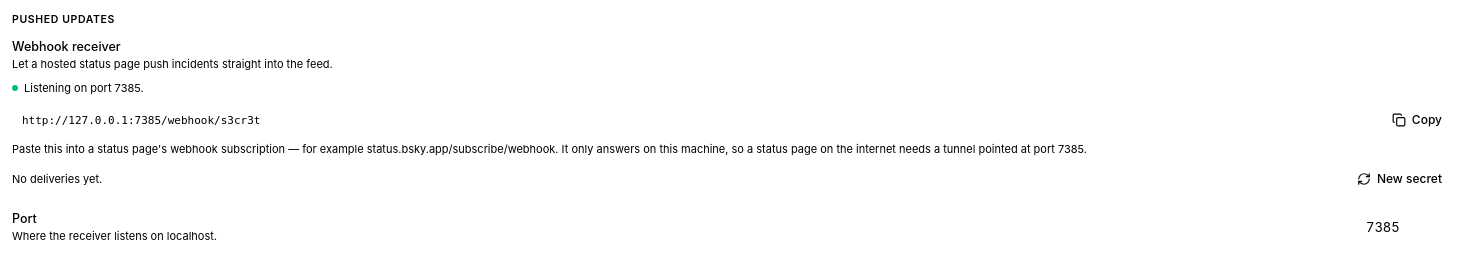
Test: the endpoint › copies the URL through main, and says so
Click the button "Copy": [1417, 120] box 1382,106 -> 1452,134
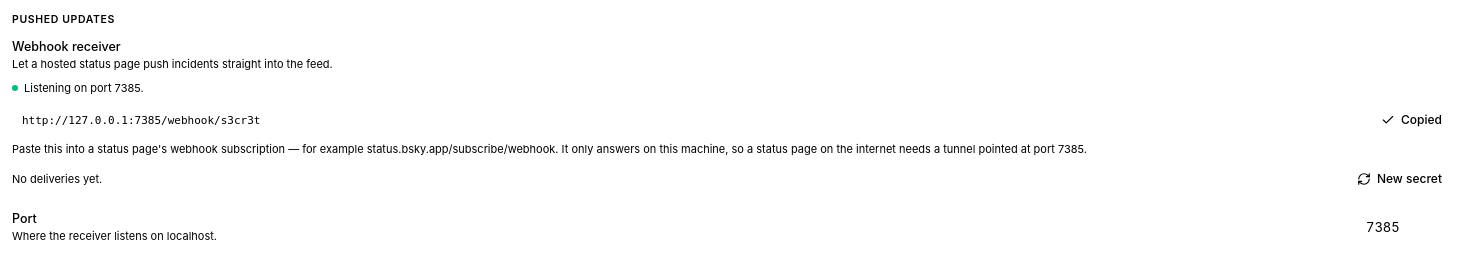
Expected: the text "Copied" is shown, 1371,106 -> 1452,134
